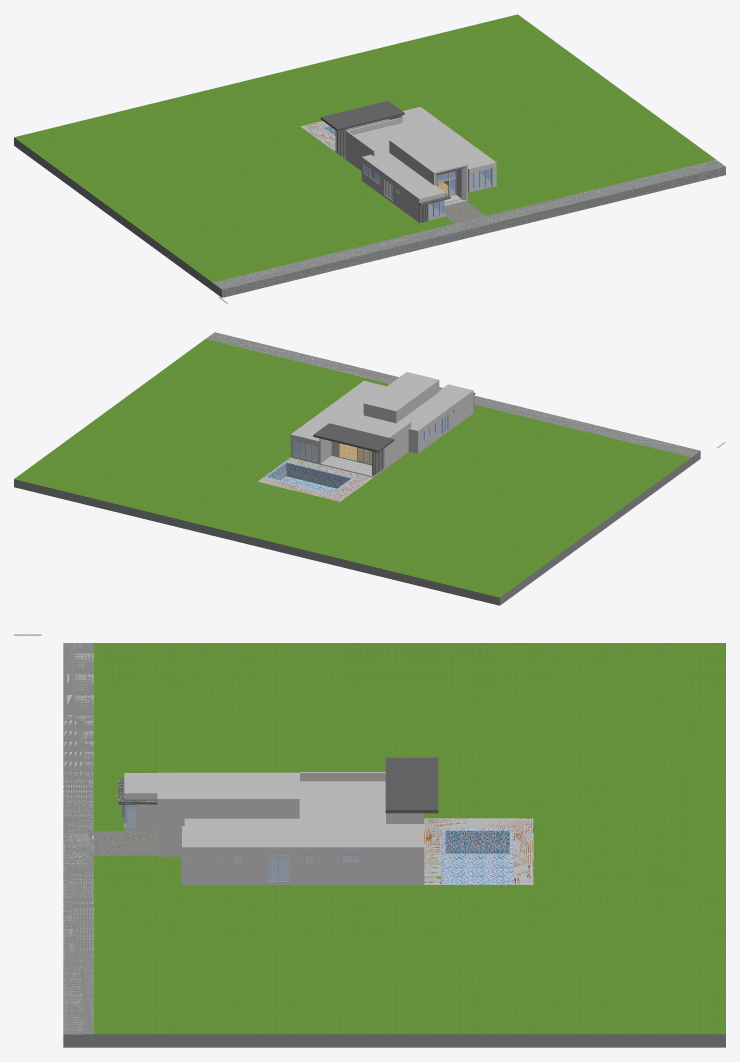
Rendered from building.glb.
3 views of the same model, one above another, from view 1: azimuth 30°, elevation 25°; view 2: azimuth 150°, elevation 25°; view 3: azimuth 270°, elevation 25° (orthographic). The views are drawn at different scales.
Parts seen in each view (by area): view 1: group_56.001, group_56.002, group_5, group_6, group_56.005, group_4, group_2, group_56.003, group_50.001, group_55.001; view 2: group_56.001, group_5, group_56.005, group_56.002, group_6, group_51.001, group_2, group_4, group_55.001, group_50.001; view 3: group_56.001, group_5, group_56.002, group_6, group_56.005, group_51.001, group_2, group_55.001, group_56.003, group_50.001, group_51.002.
Boxes of the visible parts, left/top/right/bottom form: group_56.001: left=14, top=14, right=715, bottom=282; group_56.002: left=213, top=159, right=725, bottom=297; group_5: left=334, top=107, right=496, bottom=222; group_6: left=354, top=107, right=493, bottom=167; group_56.005: left=14, top=137, right=221, bottom=297; group_4: left=364, top=153, right=443, bottom=197; group_2: left=320, top=101, right=404, bottom=131; group_56.003: left=444, top=201, right=486, bottom=223; group_50.001: left=371, top=172, right=490, bottom=216; group_55.001: left=300, top=121, right=335, bottom=151; group_56.001: left=14, top=339, right=690, bottom=597; group_5: left=290, top=372, right=473, bottom=477; group_56.005: left=14, top=451, right=700, bottom=605; group_56.002: left=206, top=332, right=700, bottom=457; group_6: left=293, top=382, right=404, bottom=440; group_51.001: left=267, top=462, right=350, bottom=492; group_2: left=313, top=423, right=394, bottom=452; group_4: left=397, top=385, right=470, bottom=430; group_55.001: left=258, top=465, right=372, bottom=501; group_50.001: left=294, top=411, right=452, bottom=463; group_56.001: left=94, top=643, right=725, bottom=1034; group_5: left=124, top=772, right=424, bottom=884; group_56.002: left=63, top=643, right=93, bottom=1034; group_6: left=187, top=781, right=421, bottom=846; group_56.005: left=63, top=1034, right=725, bottom=1047; group_51.001: left=445, top=831, right=509, bottom=883; group_2: left=385, top=757, right=438, bottom=813; group_55.001: left=424, top=818, right=533, bottom=884; group_56.003: left=94, top=831, right=157, bottom=855; group_50.001: left=127, top=809, right=358, bottom=880; group_51.002: left=441, top=829, right=513, bottom=884.
Size of the model in its own units: 39.57 by 3.85 by 29.79.
Materials: 20 (12 with a texture image).
